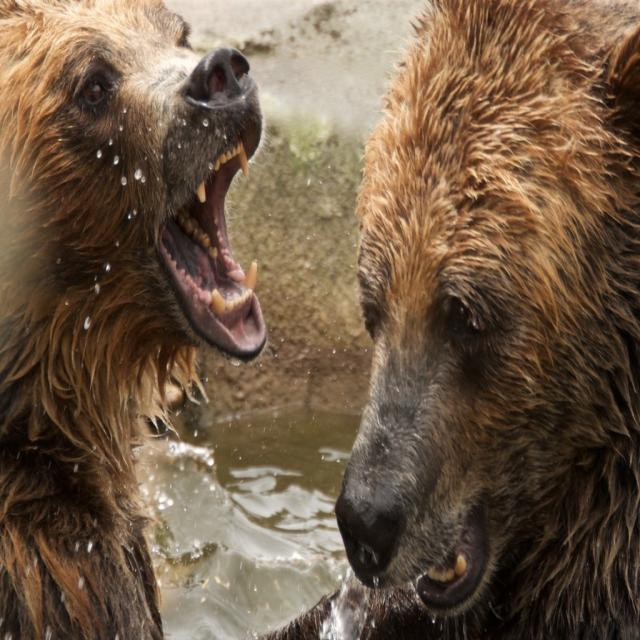Cheetahs: (259, 0, 639, 639), (0, 0, 265, 639)
